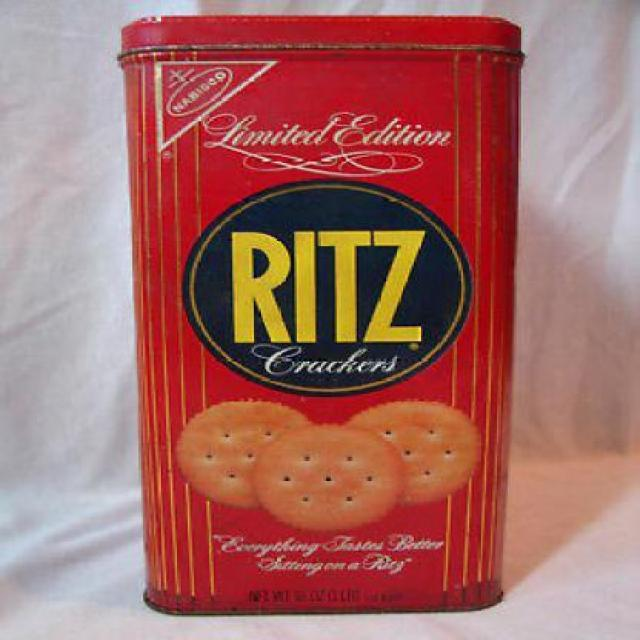Ritz cracker: (106, 11, 525, 624)
